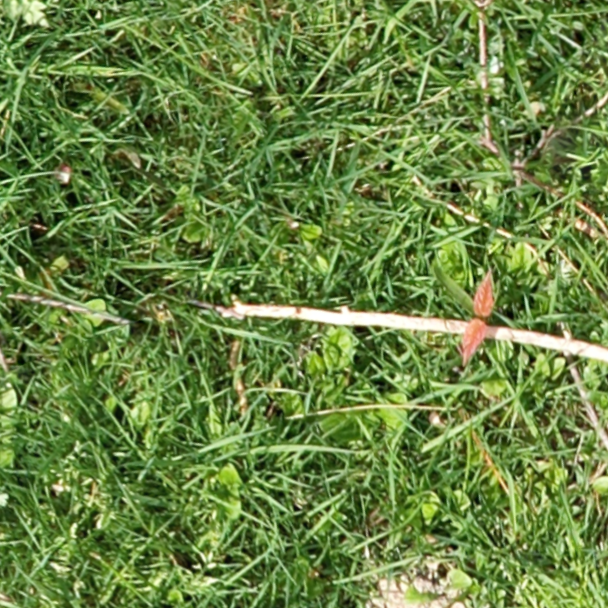nest: (365, 561, 475, 608)
